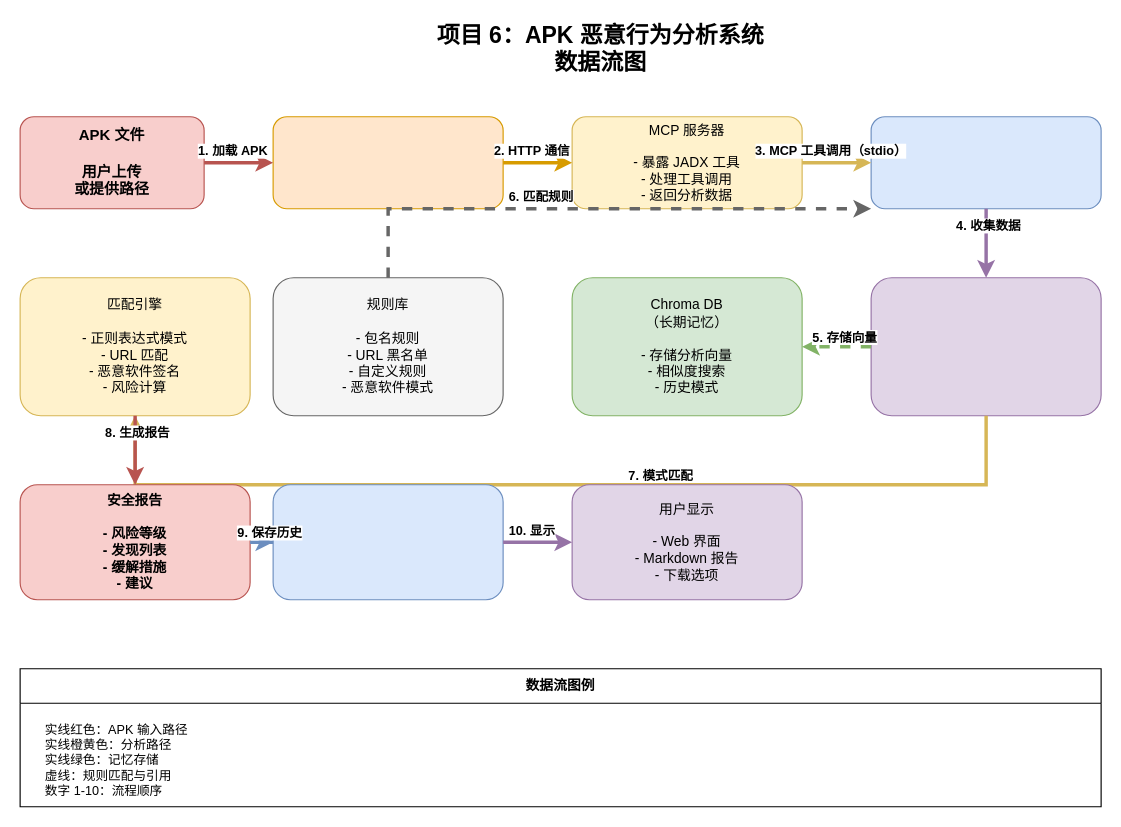
Image size: 1121x827. Some labels were removed from this diagram. Each missing label, with the centre of its shape:
JADX 反编译 - 在 JADX-GUI 中打开 APK - 提取源代码 - 解析清单文件: (387,162)
代理分析 - 调用 MCP 工具 - 匹配规则 - 分析模式: (985,162)
分析结果 - 清单数据 - 代码路径 - 网络信息 - API 调用 - 字符串: (985,346)
历史管理器 - 保存分析 - 加载历史 - 跟踪 Token: (387,542)
